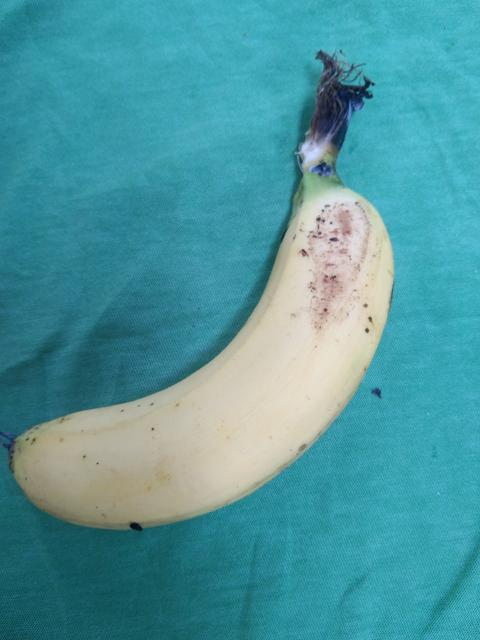freshripe: (2, 182, 402, 535)
